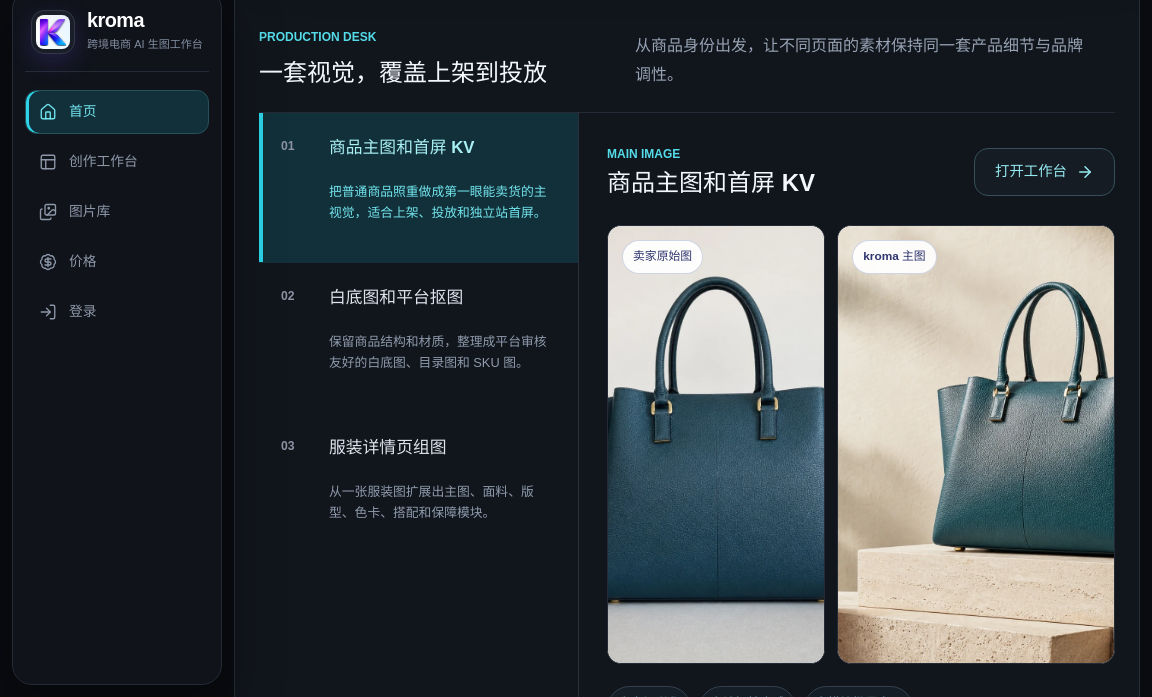
Scenario: App › switches the homepage production showcase
The image size is (1152, 697).
(page scrolled)
Click the tab "02 白底图和平台抠图 保留商品结构和材质，整理成平台审核友好的白底图、目录图和 SKU 图。". click: (418, 338)
box: left=259, top=263, right=578, bottom=413
(page scrolled)
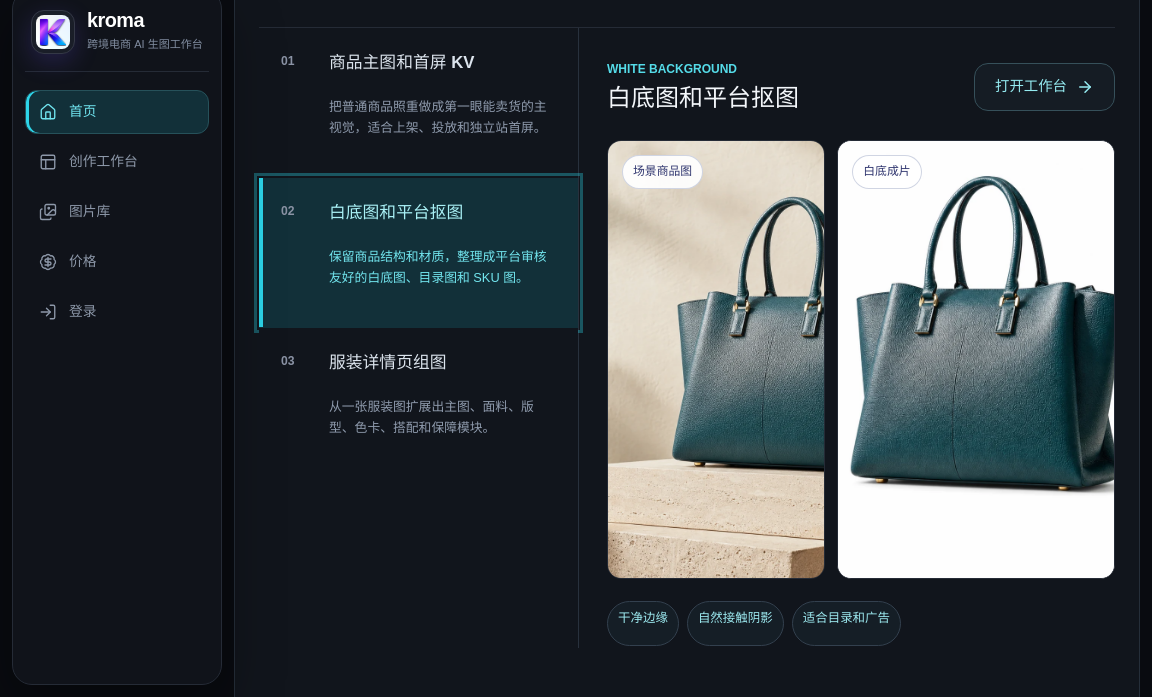
Now the panel "白底图和平台抠图" is shown, box left=579, top=28, right=1115, bottom=648
